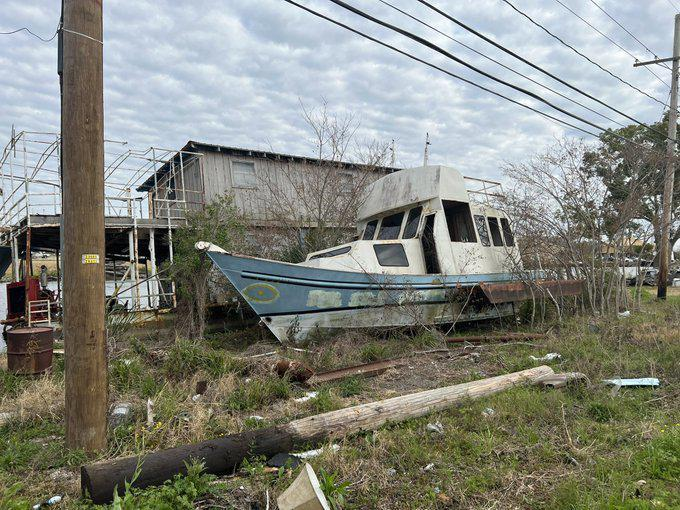affected: (152, 123, 590, 328)
